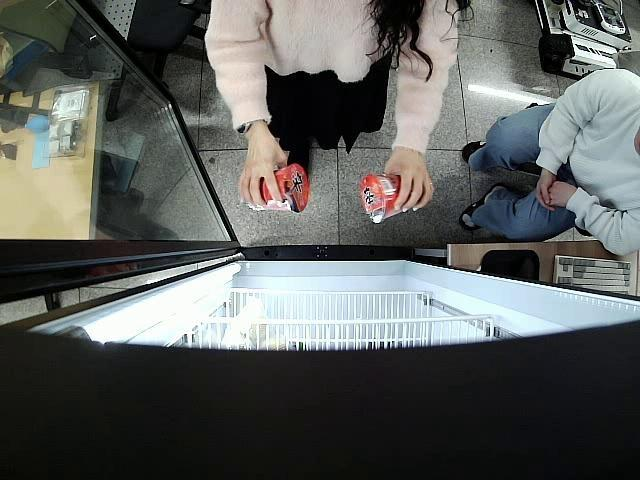02_shinRamen_S: (360, 172, 424, 224), (259, 162, 310, 214)
